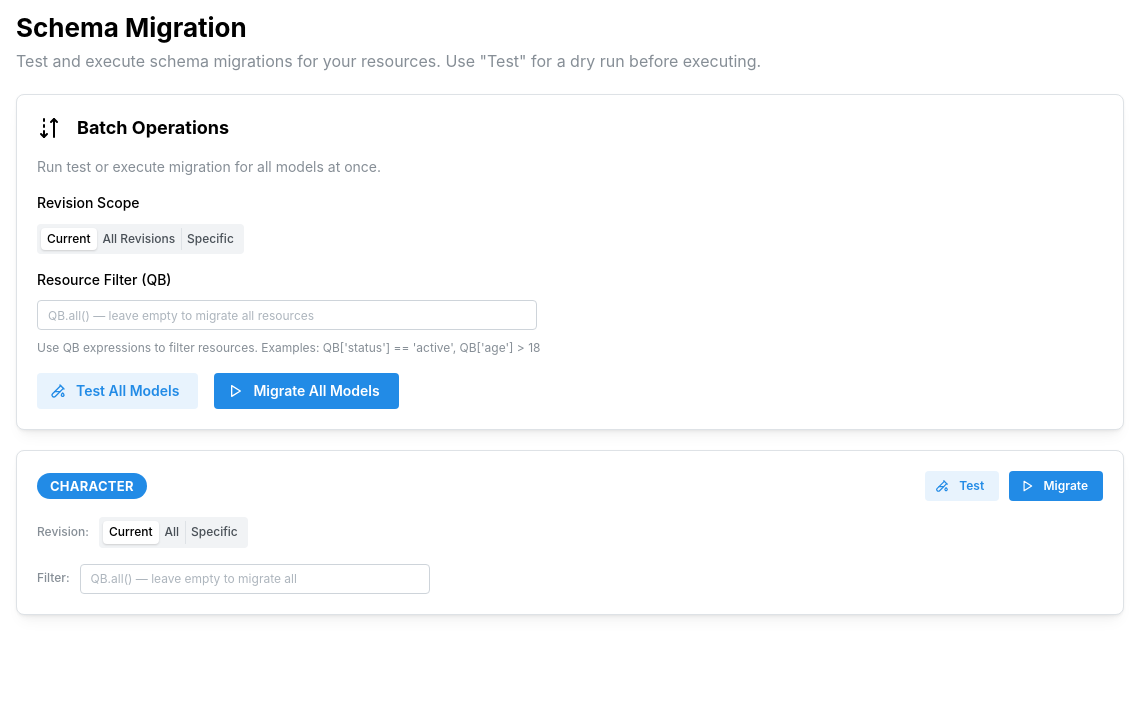
Test: MigrationStatus › error handling › shows error message from Error object
What coordinates should you click on to do the following:
click the button "Test"
I would click on:
 (962, 486)
Its box is [925,471,999,501].
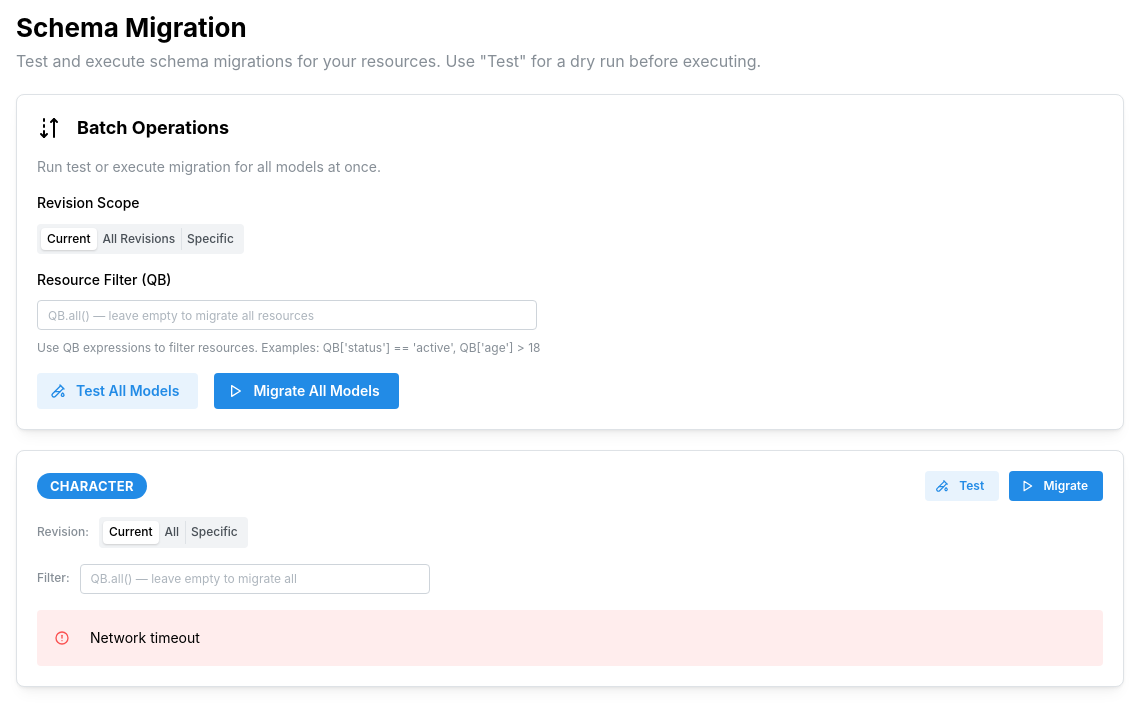
Check: the text "Network timeout" is shown, box [90,629,200,646]
